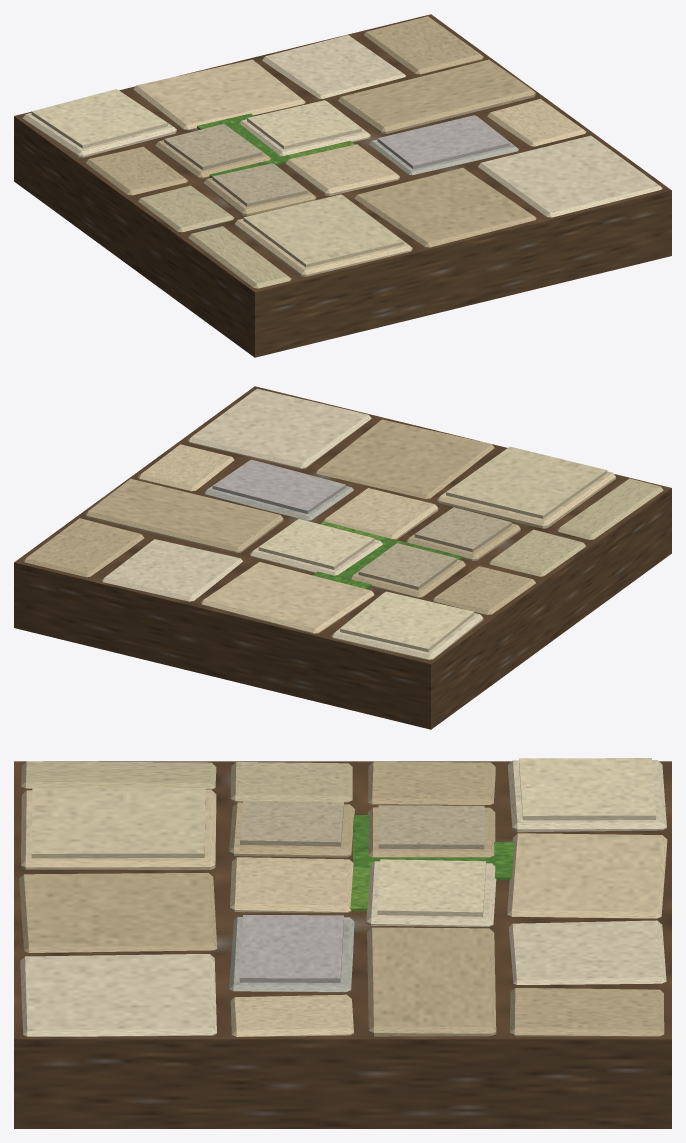
The model's file is Sol_Paves_C.obj.
3 views of the same model, one above another, from view 1: azimuth 30°, elevation 25°; view 2: azimuth 150°, elevation 25°; view 3: azimuth 270°, elevation 25° (orthographic). The views are drawn at different scales.
Parts seen in each view (by area): view 1: Sol_Paves_C; view 2: Sol_Paves_C; view 3: Sol_Paves_C.
Part boxes in pixels (x1,y1,x2,y2): Sol_Paves_C: (14, 14, 671, 357); Sol_Paves_C: (14, 386, 671, 729); Sol_Paves_C: (14, 758, 671, 1128).
Bounding box in the file's own units: 8 × 1.37 × 8.
Materials: 1 (1 with a texture image).
